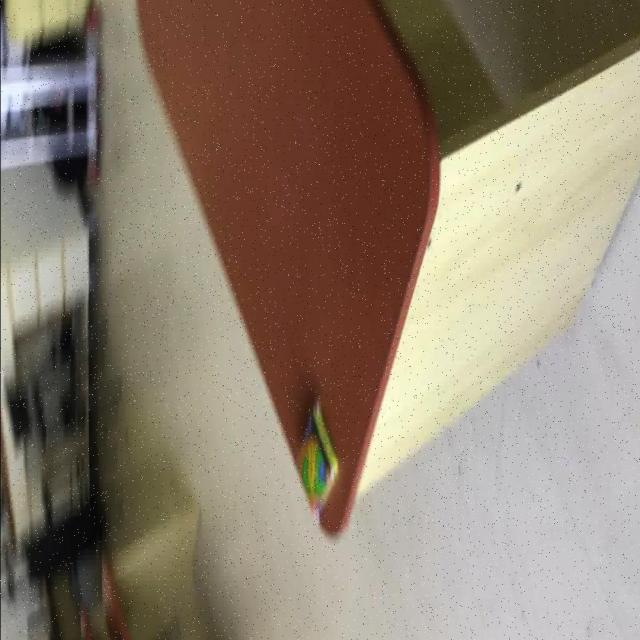Sponge: (135, 0, 443, 540), (297, 397, 339, 518)
